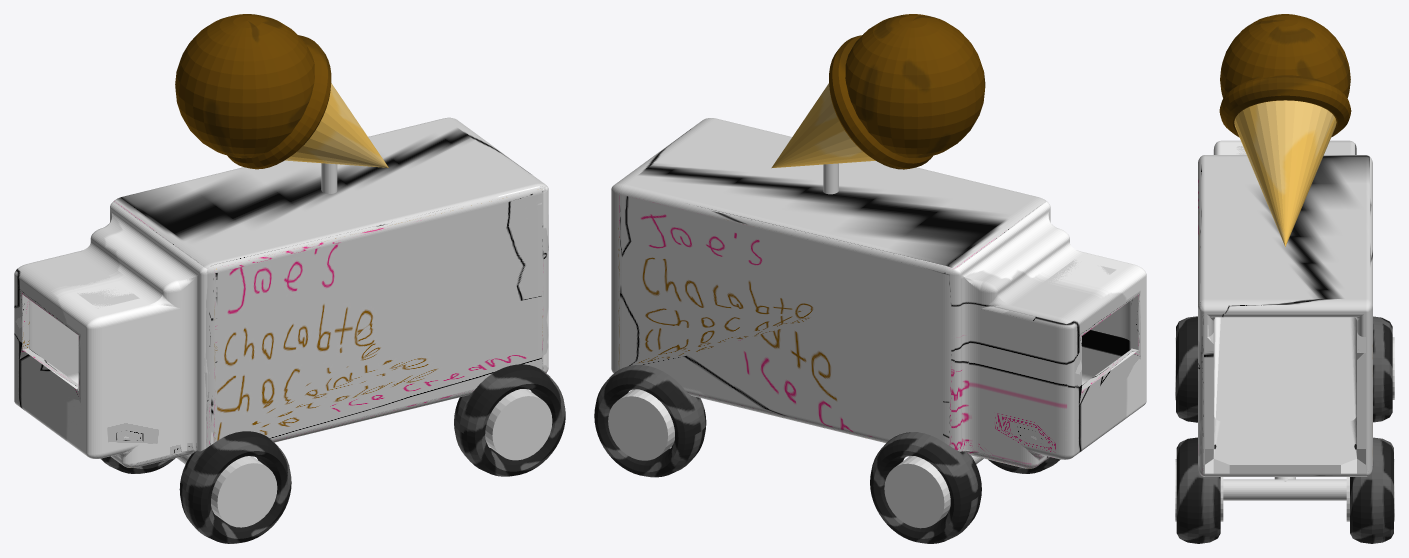
The model's file is Joe'sChocolateChocolateIceCreamTruck.fbx.
3 views of the same model, side by side, from view 1: azimuth 30°, elevation 25°; view 2: azimuth 150°, elevation 25°; view 3: azimuth 270°, elevation 25° (orthographic). The views are drawn at different scales.
Visible parts, largest first — view 1: Cube, Sphere, Torus.003, Torus.002, Cone, Cylinder.002, Cylinder.001, Torus.004; view 2: Cube, Sphere, Torus.001, Torus, Cone, Cylinder.004, Cylinder.003, Torus.004; view 3: Cube, Cone, Sphere, Torus.004, Torus.002, Torus, Cylinder.007, Torus.003, Torus.001, Cylinder.002.
Part boxes in pixels (x1,y1,x2,y2): Cube: [14, 117, 548, 467]; Sphere: [175, 14, 314, 158]; Torus.003: [179, 431, 291, 543]; Torus.002: [454, 364, 565, 476]; Cone: [285, 83, 388, 167]; Cylinder.002: [485, 389, 552, 460]; Cylinder.001: [211, 456, 277, 527]; Torus.004: [227, 35, 331, 169]; Cube: [611, 118, 1146, 468]; Sphere: [845, 14, 985, 158]; Torus.001: [870, 432, 981, 543]; Torus: [594, 365, 706, 477]; Cone: [771, 83, 875, 168]; Cylinder.004: [608, 389, 674, 460]; Cylinder.003: [884, 456, 950, 528]; Torus.004: [829, 35, 932, 169]; Cube: [1198, 140, 1372, 476]; Cone: [1234, 100, 1336, 246]; Sphere: [1220, 14, 1350, 97]; Torus.004: [1219, 75, 1351, 137]; Torus.002: [1176, 437, 1220, 543]; Torus: [1350, 437, 1393, 543]; Cylinder.007: [1223, 479, 1346, 500]; Torus.003: [1176, 316, 1197, 422]; Torus.001: [1373, 316, 1392, 422]; Cylinder.002: [1175, 459, 1223, 521].
Bounding box in the file's own units: 2678 × 2598 × 1218.
